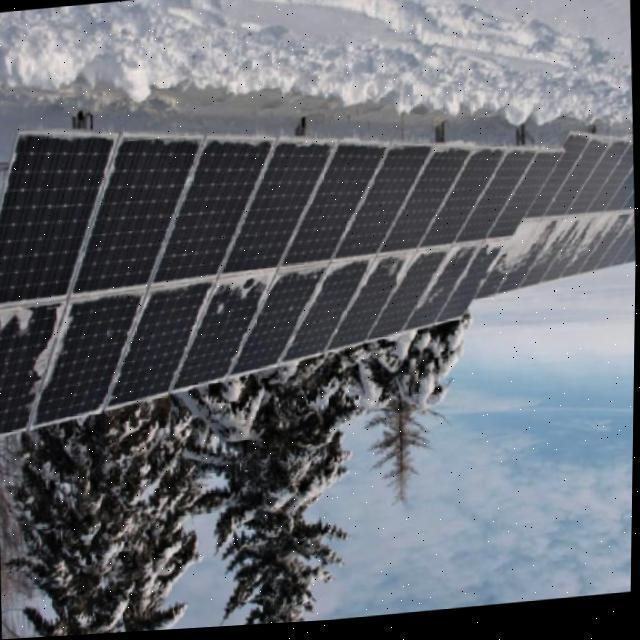Anomaly Solar Panel: (31, 136, 204, 427), (106, 137, 276, 408), (170, 141, 337, 394), (228, 144, 391, 379), (0, 133, 120, 436), (281, 147, 436, 366), (326, 149, 476, 354), (366, 151, 508, 345), (402, 154, 538, 335), (435, 156, 565, 329), (473, 140, 592, 304), (497, 143, 611, 298), (521, 145, 632, 293), (542, 148, 634, 287), (561, 175, 634, 283), (581, 199, 636, 279)
Snow: (0, 207, 635, 343)
